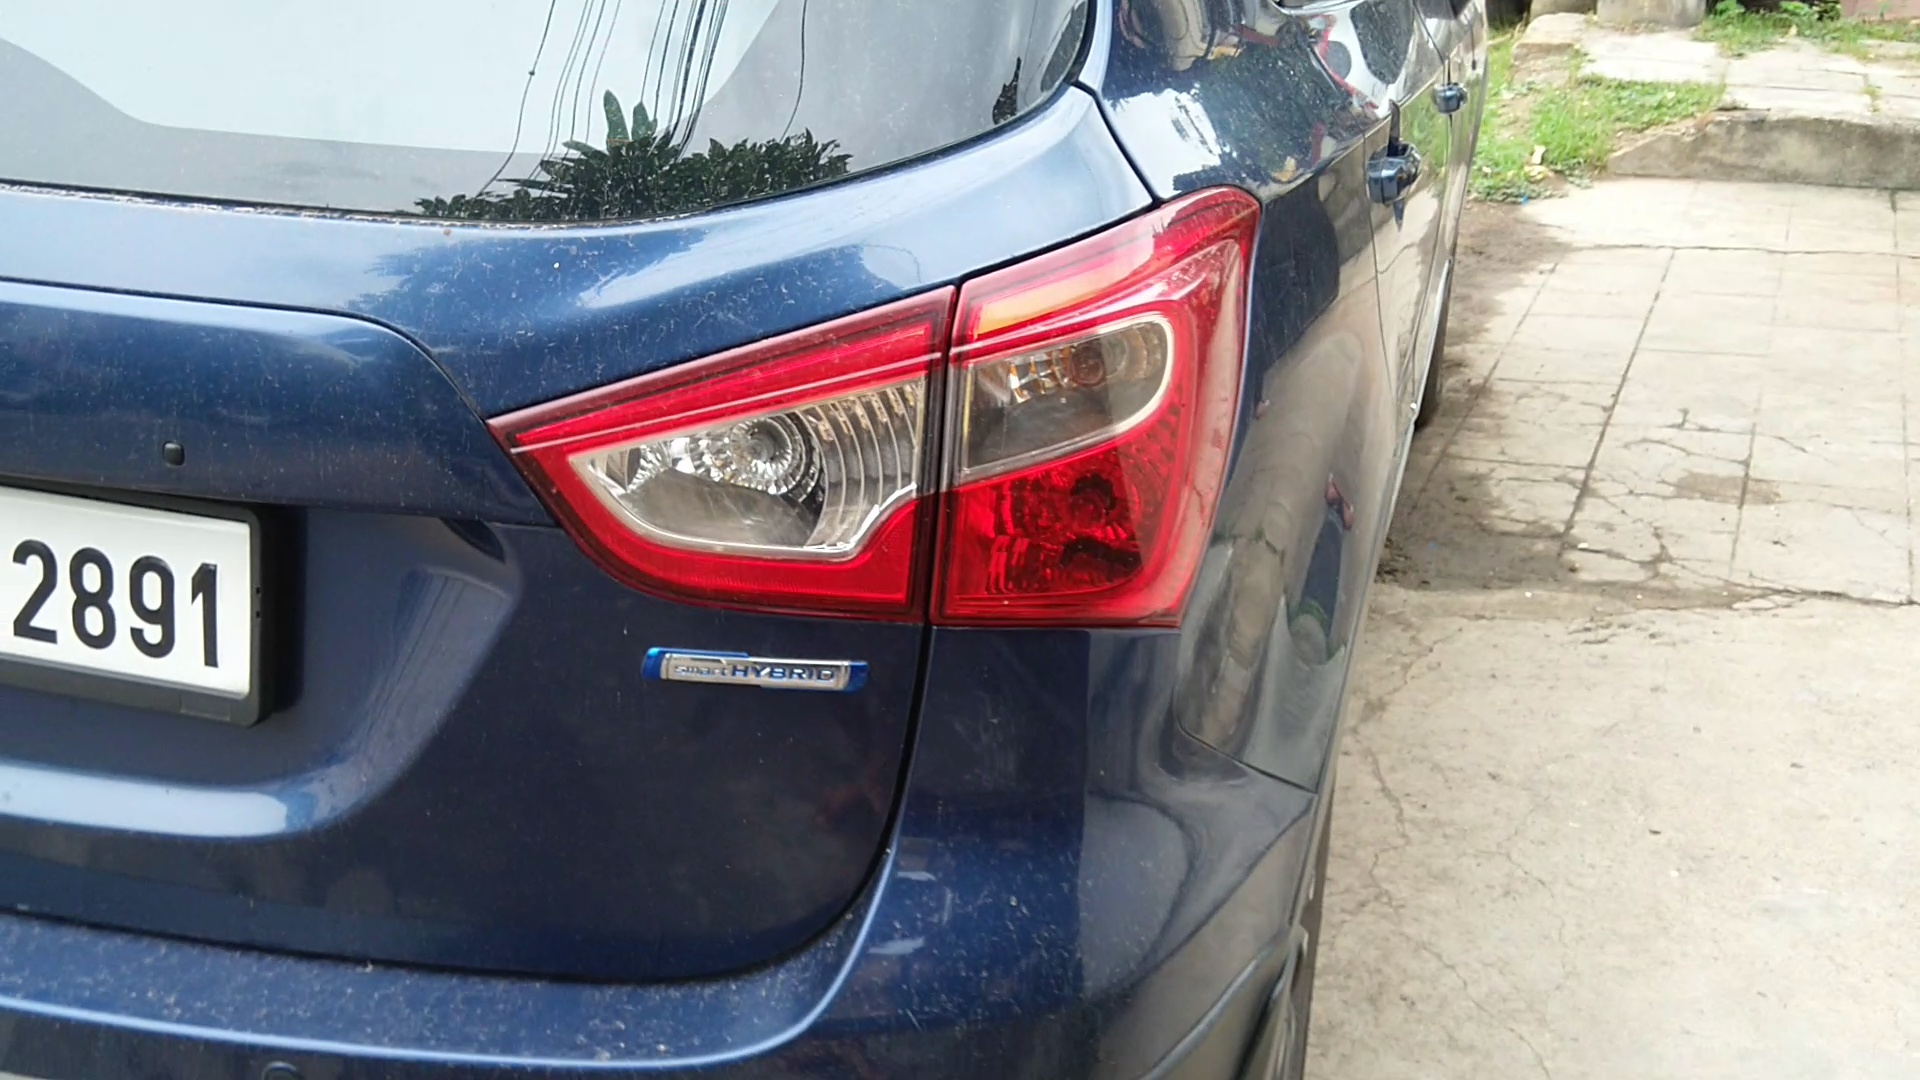shvs: (629, 637, 886, 712)
